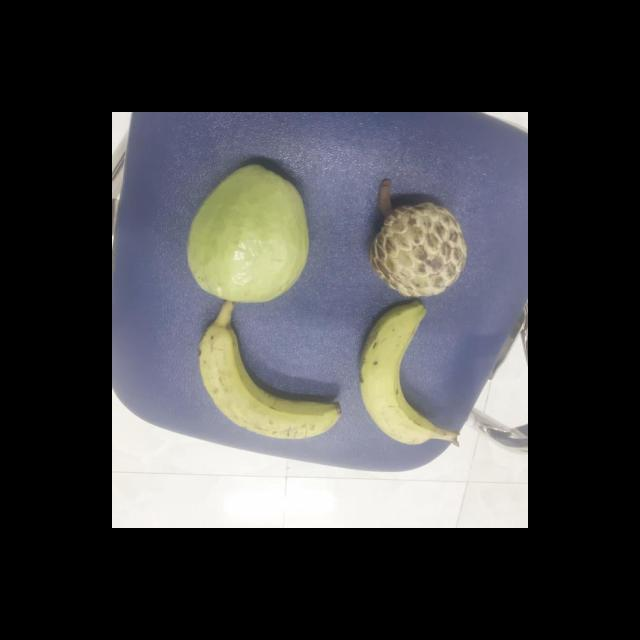Sakya fruit: (368, 200, 470, 300)
banana: (195, 311, 348, 444), (355, 301, 451, 450)
guava: (181, 162, 313, 308)
